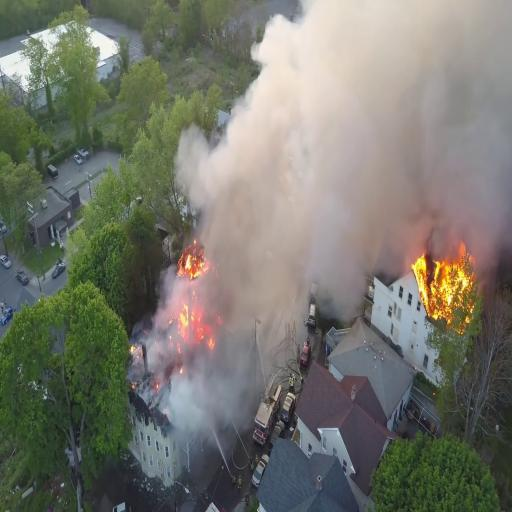fire: (412, 240, 477, 329), (180, 248, 206, 279)
smoke: (218, 150, 270, 294)
